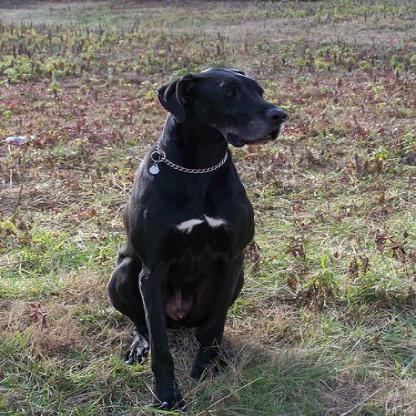Great_Dane: (101, 68, 285, 410)
